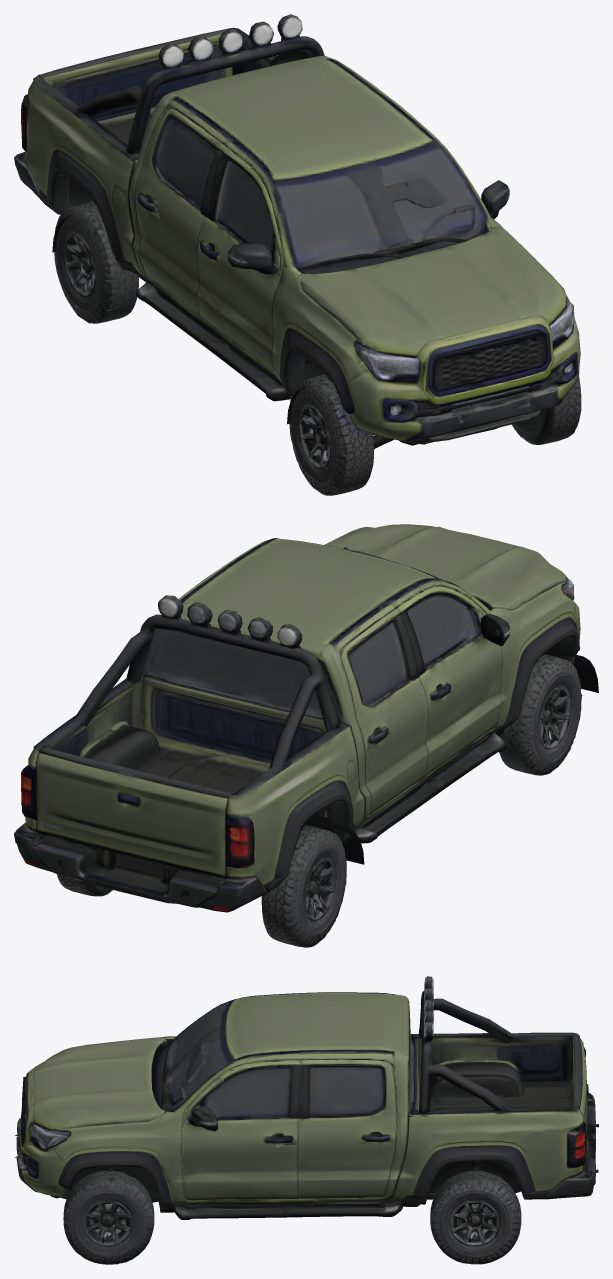
File: car_pickup.glb
3 renders of one model, top to bottom at view 1: azimuth 30°, elevation 25°; view 2: azimuth 150°, elevation 25°; view 3: azimuth 270°, elevation 25°, orthographic. The views are drawn at different scales.
Visible parts, largest first — view 1: body, wheel_FR, wheel_RR, wheel_FL; view 2: body, wheel_FR, wheel_RR, liner_RR, liner_FR; view 3: body, wheel_FL, wheel_RL.
Boxes of the visible parts, left/top/right/bottom form: body: left=14, top=14, right=580, bottom=495; wheel_FR: left=292, top=389, right=373, bottom=495; wheel_RR: left=59, top=219, right=138, bottom=323; wheel_FL: left=515, top=375, right=581, bottom=444; body: left=14, top=524, right=580, bottom=947; wheel_FR: left=536, top=655, right=582, bottom=767; wheel_RR: left=303, top=832, right=346, bottom=938; liner_RR: left=307, top=819, right=364, bottom=864; liner_FR: left=551, top=648, right=598, bottom=692; body: left=14, top=976, right=598, bottom=1264; wheel_FL: left=63, top=1174, right=140, bottom=1263; wheel_RL: left=430, top=1176, right=502, bottom=1262.
Size of the model in its own units: 2.35 by 2.28 by 5.5.
2 materials, 1 textured.
